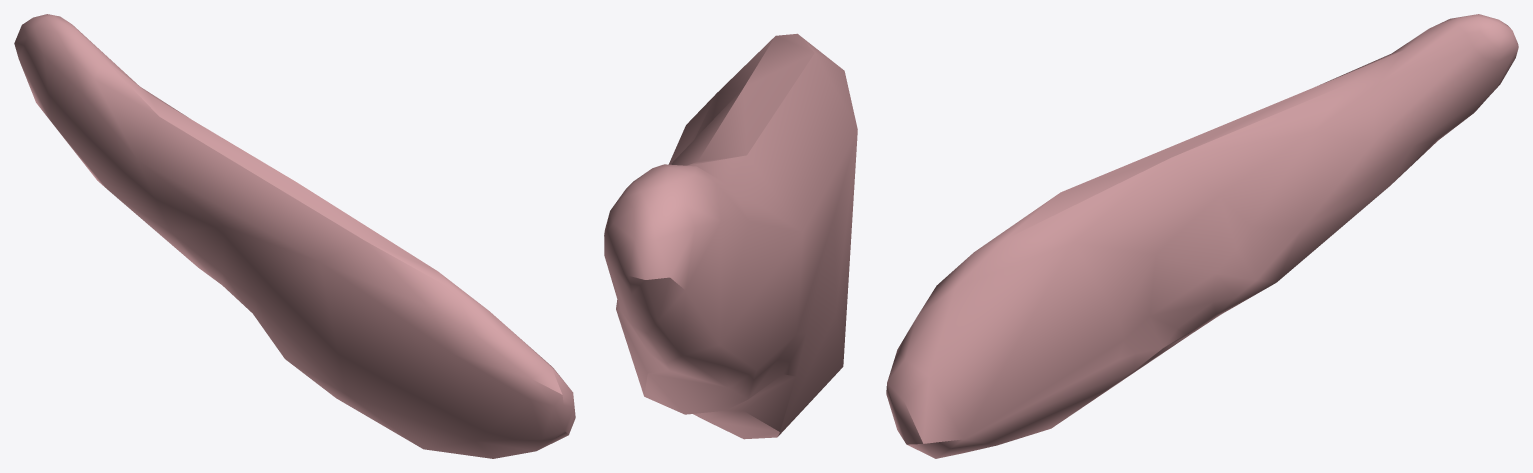
Rendered from fma59804_fj2767.glb.
3 views of the same model, side by side, from view 1: azimuth 30°, elevation 25°; view 2: azimuth 150°, elevation 25°; view 3: azimuth 270°, elevation 25° (orthographic). The views are drawn at different scales.
Parts seen in each view (by area): view 1: FMA59804_FJ2767; view 2: FMA59804_FJ2767; view 3: FMA59804_FJ2767.
Part boxes in pixels (bbox=[...]): FMA59804_FJ2767: bbox=[14, 14, 575, 458]; FMA59804_FJ2767: bbox=[604, 33, 857, 439]; FMA59804_FJ2767: bbox=[886, 14, 1518, 458].
Size of the model in its own units: 0.0126 by 0.0132 by 0.0227.
